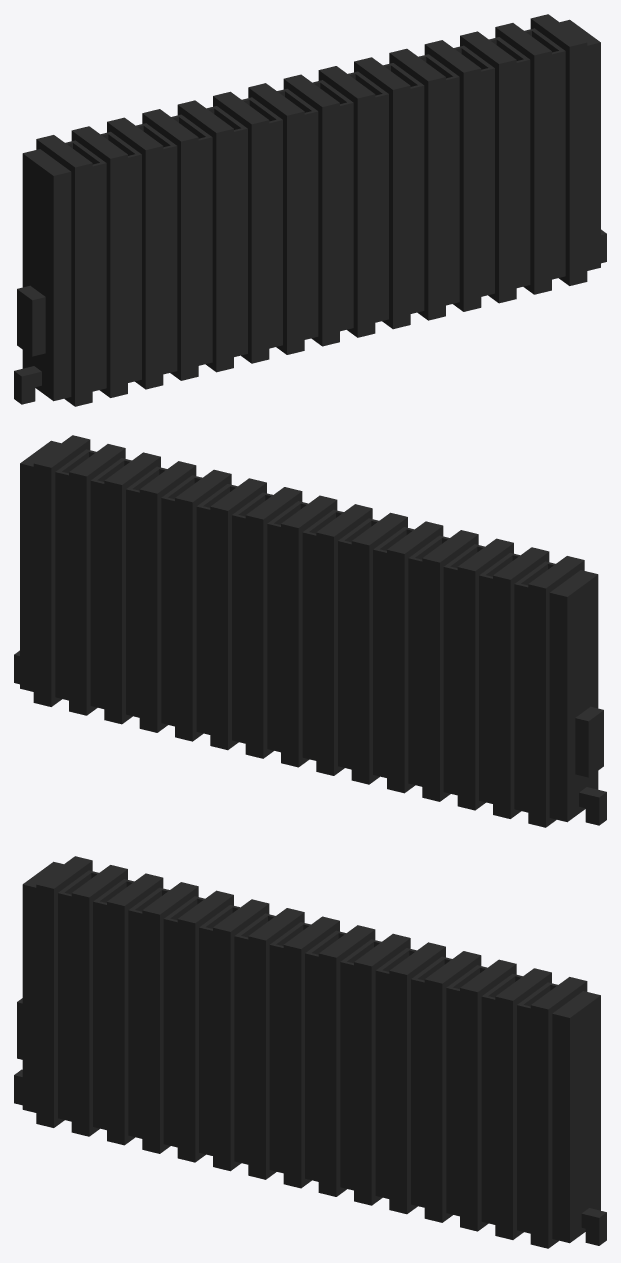
Rendered from Radiator.fbx.
The picture shows the model from 3 angles, top to bottom: view 1: azimuth 30°, elevation 25°; view 2: azimuth 150°, elevation 25°; view 3: azimuth 330°, elevation 25°; orthographic projection.
Visible parts, largest first — view 1: body, block, right_stand; view 2: body, block, right_stand; view 3: body, left_stand.
Boxes of the visible parts, left/top/right/bottom form: body: left=22, top=14, right=600, bottom=406; block: left=17, top=285, right=45, bottom=356; right_stand: left=14, top=366, right=41, bottom=404; body: left=20, top=435, right=598, bottom=827; block: left=575, top=706, right=603, bottom=777; right_stand: left=579, top=787, right=606, bottom=825; body: left=22, top=856, right=600, bottom=1248; left_stand: left=581, top=1208, right=606, bottom=1245.
Bounding box in the file's own units: 272 × 106 × 31.25.
1 material, 1 textured.
